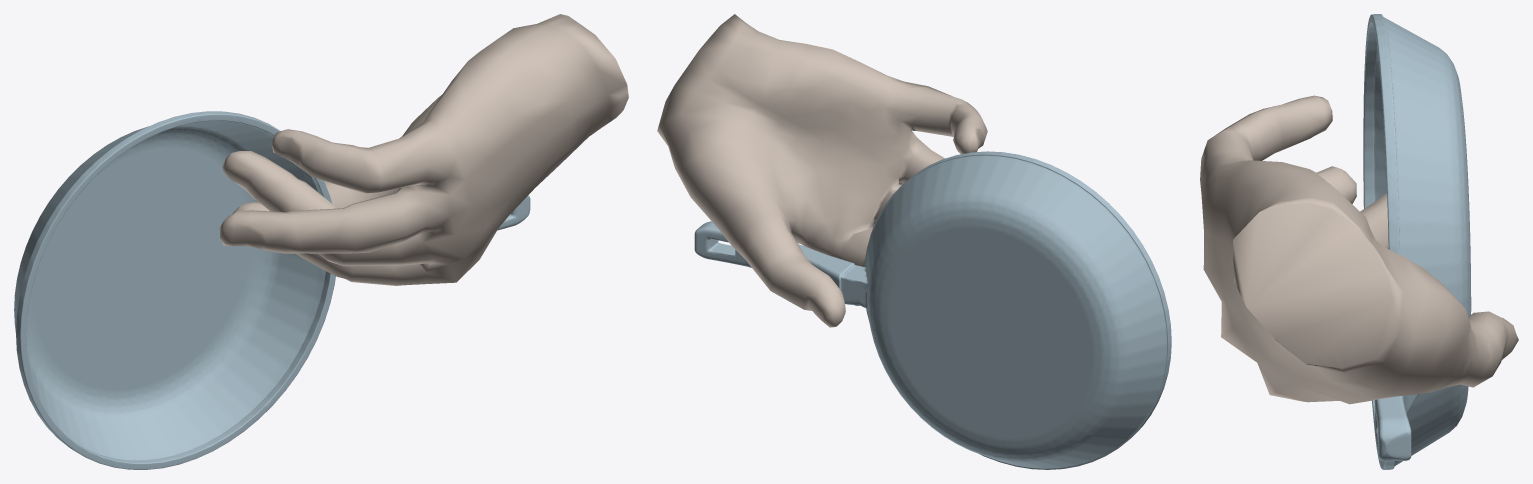
File: ours_3.glb
The picture shows the model from 3 angles, left to right: view 1: azimuth 30°, elevation 25°; view 2: azimuth 150°, elevation 25°; view 3: azimuth 270°, elevation 25°; orthographic projection. The views are drawn at different scales.
Bounding box in the file's own units: 0.2599 × 0.1655 × 0.1049.
